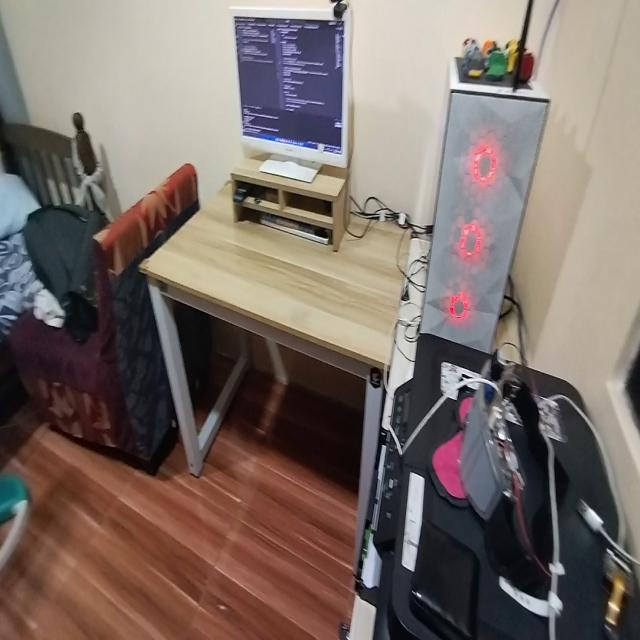table: (149, 160, 399, 501)
